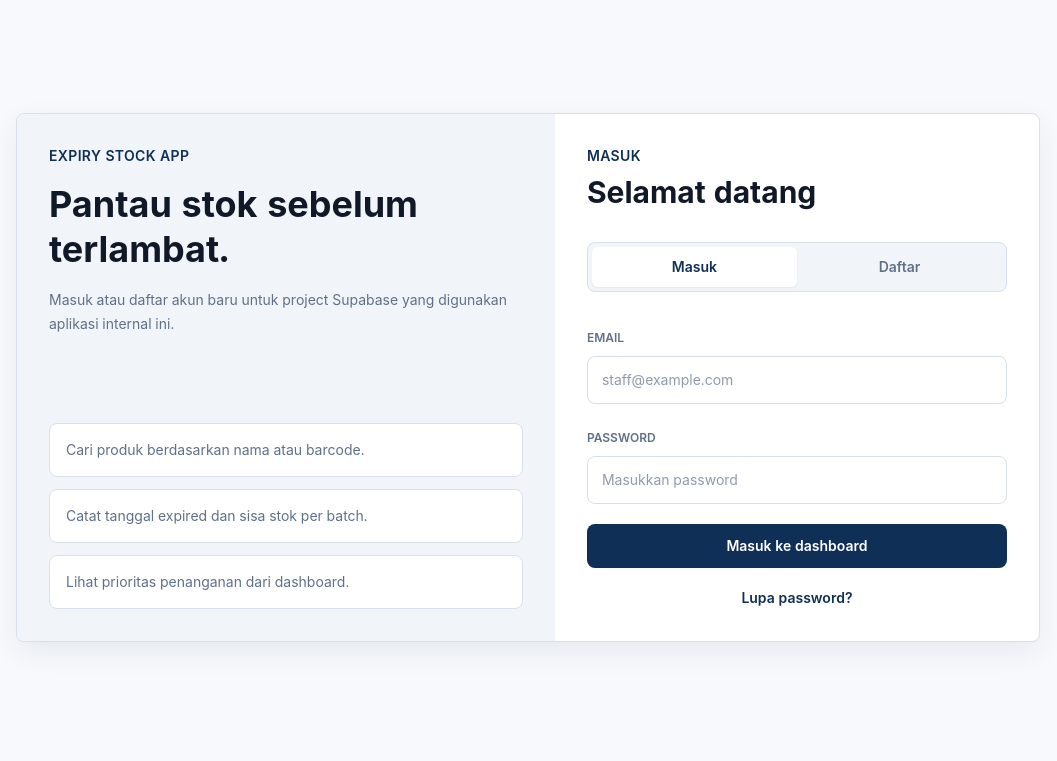
Test case: LoginPage › menolak daftar akun saat email tidak valid sebelum memanggil Supabase
Click the tab "Daftar": [899, 266] box x1=797 y1=246 x2=1002 y2=286
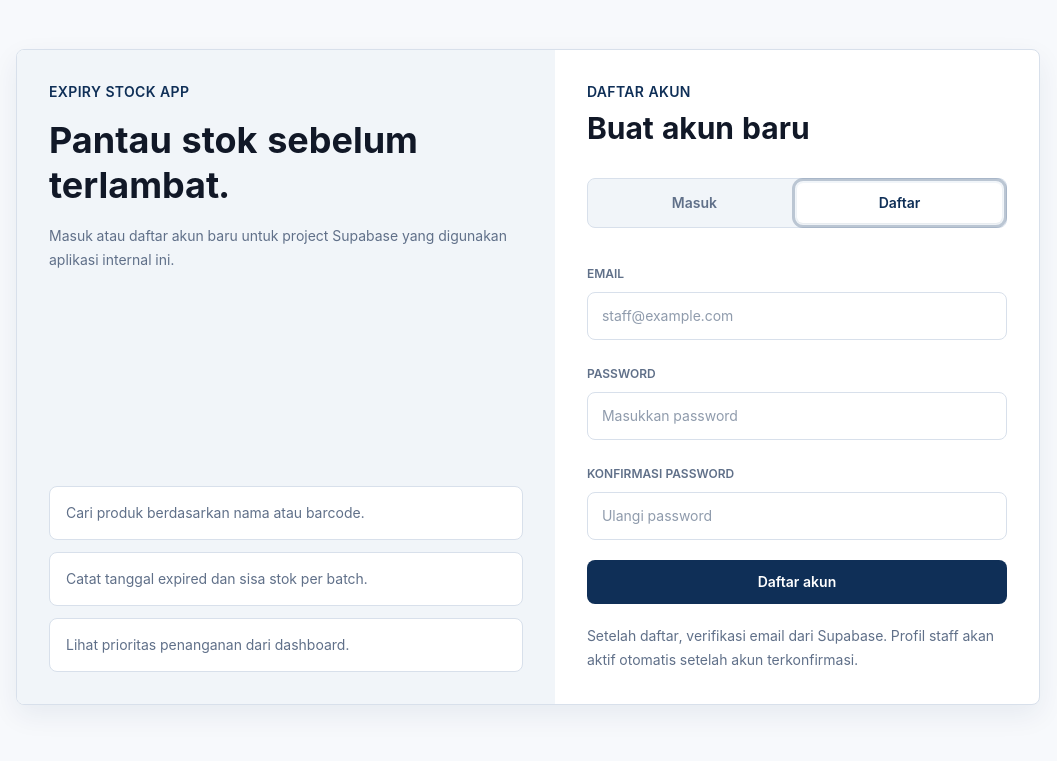
In the field labelled "Email": [797, 316] box x1=587 y1=292 x2=1007 y2=340, type "email-salah"
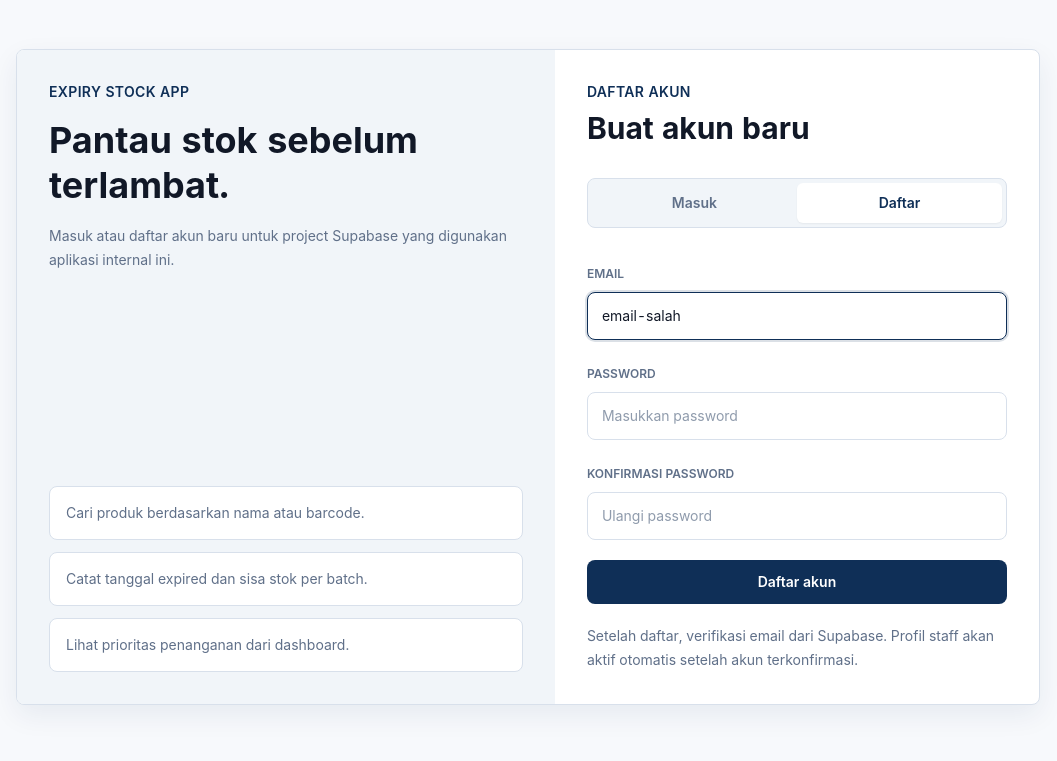
In the password field labelled "Password": [797, 416] box x1=587 y1=392 x2=1007 y2=440, type "password-baru"
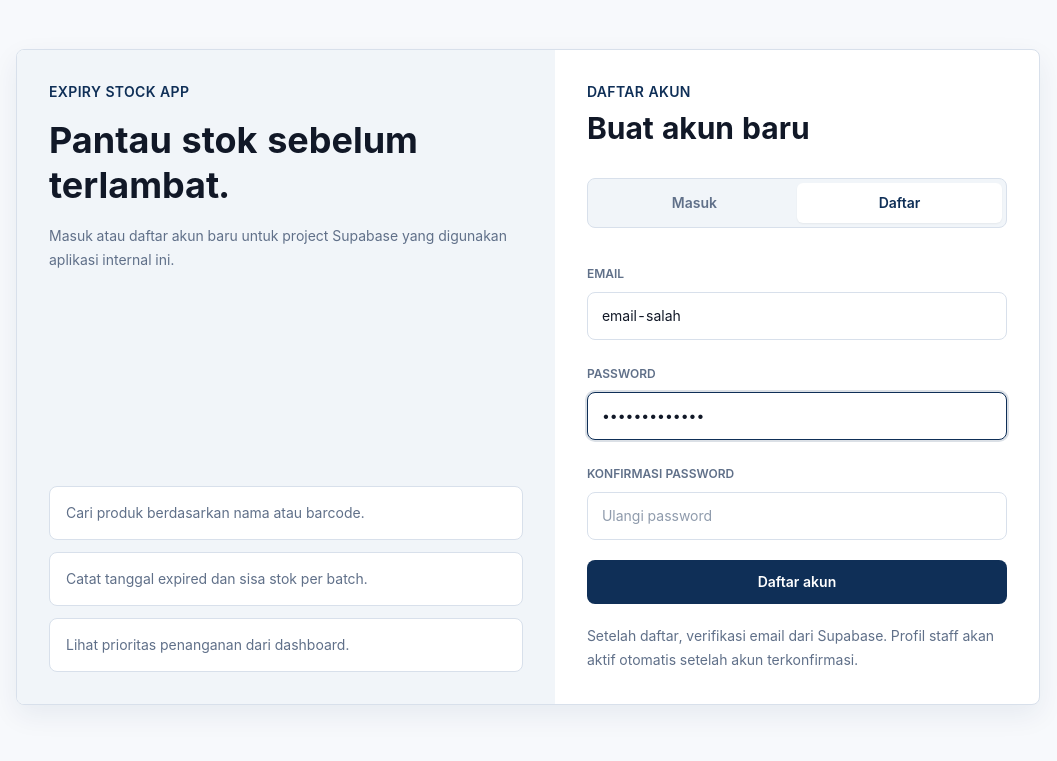
In the password field labelled "Konfirmasi password": [797, 516] box x1=587 y1=492 x2=1007 y2=540, type "password-baru"
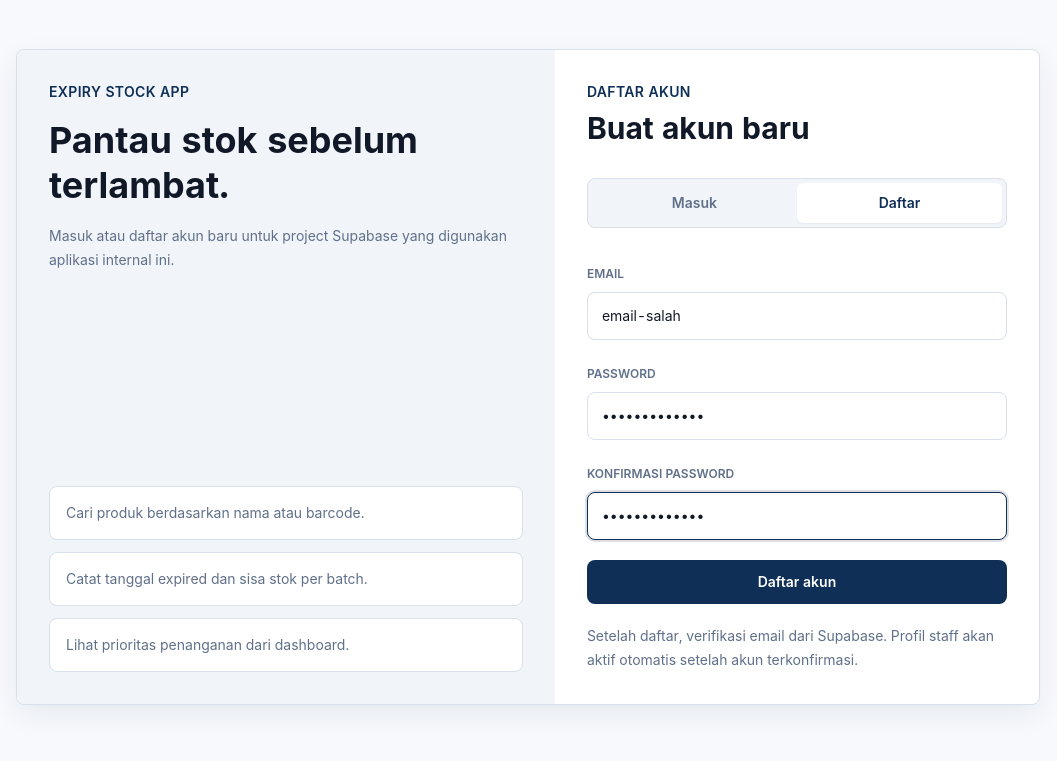
Click the button "Daftar akun": [797, 582] box x1=587 y1=560 x2=1007 y2=604
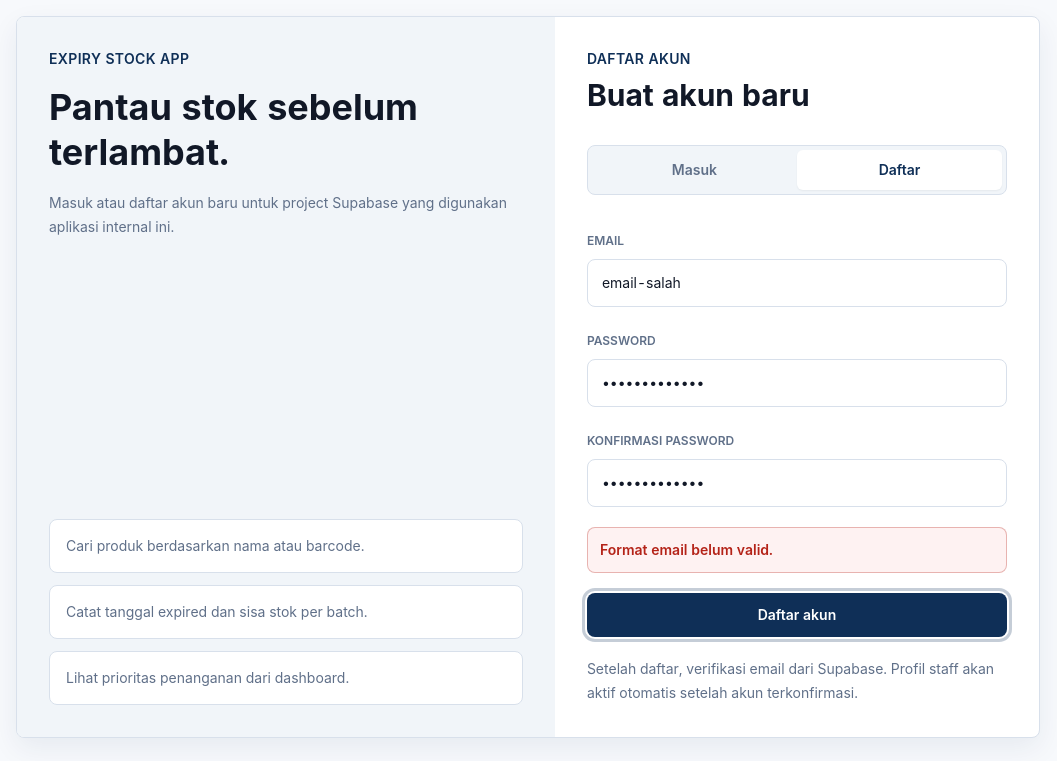
Expected: the text "Format email belum valid." is shown, x1=587 y1=527 x2=1007 y2=573
